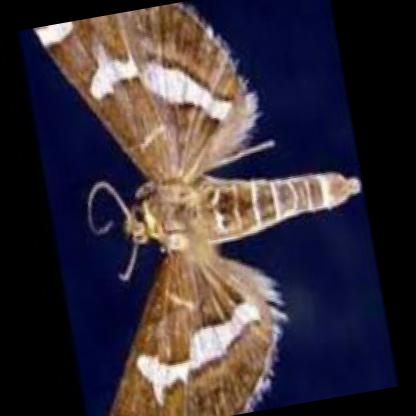Leaf Webber: (32, 1, 365, 416)
